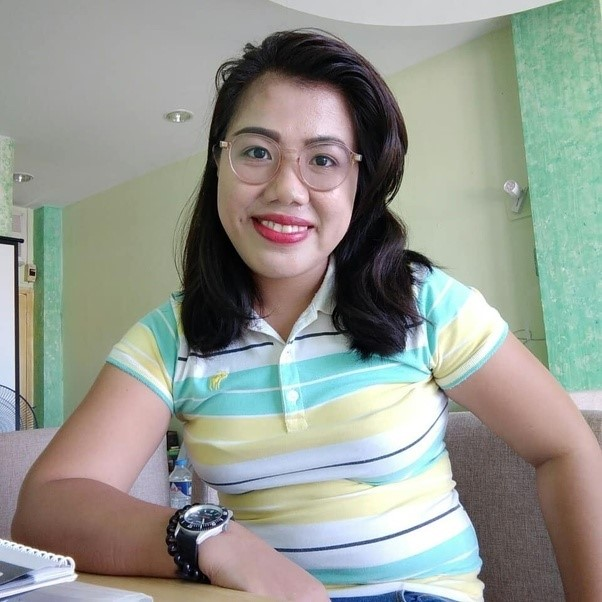face_no_mask: (219, 56, 363, 278)
